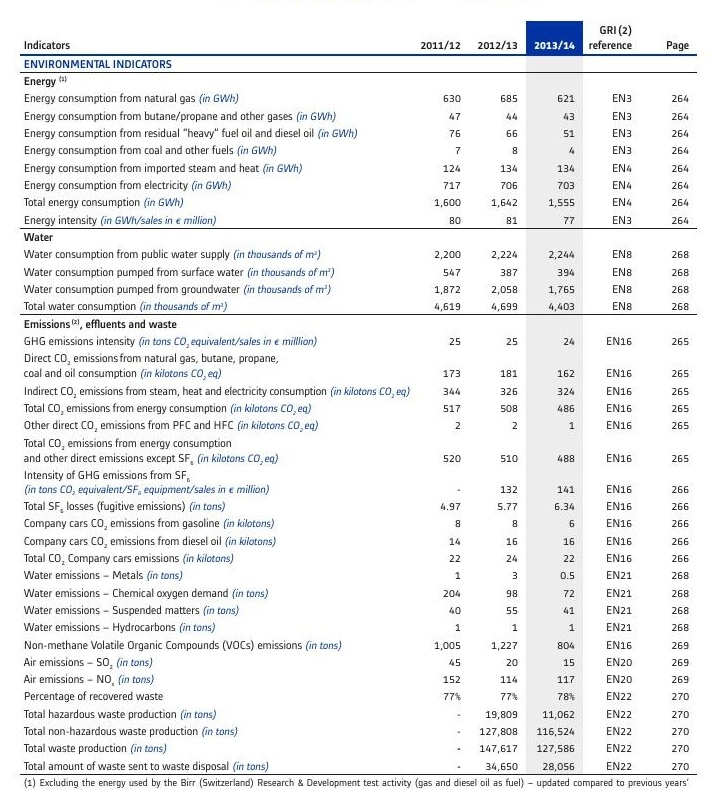table: (0, 0, 715, 790)
